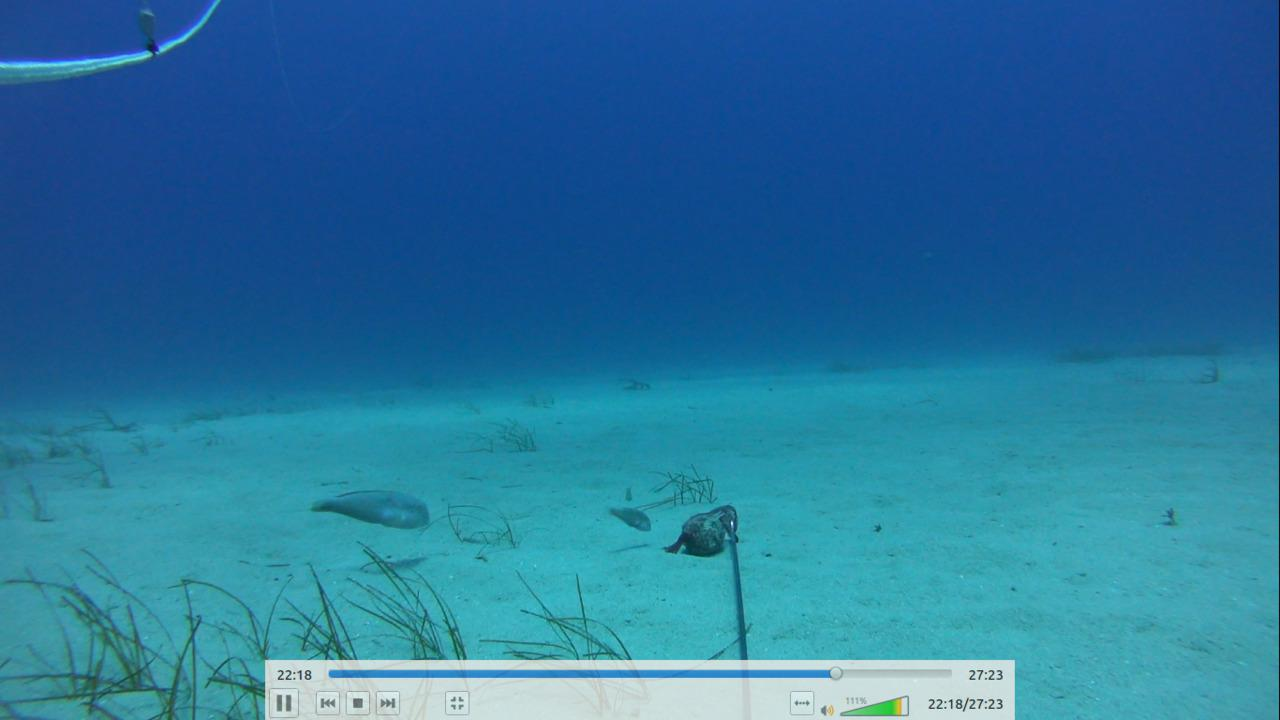raor: (307, 482, 430, 533), (604, 499, 654, 532)
